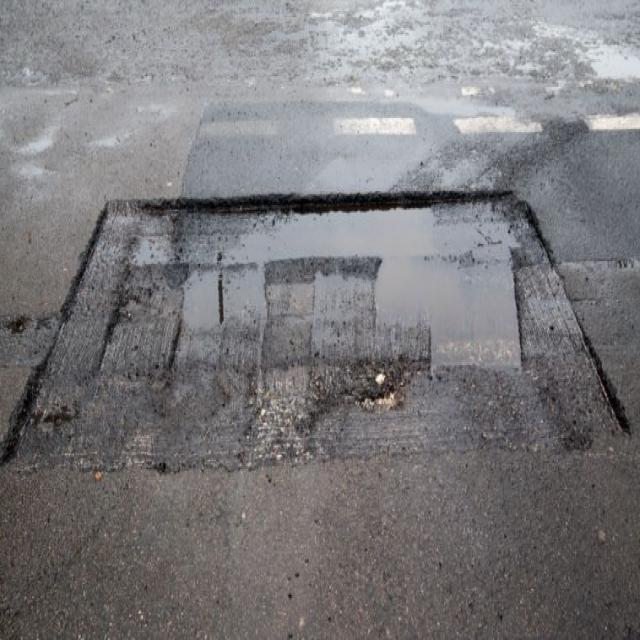pothole: (8, 173, 636, 483)
